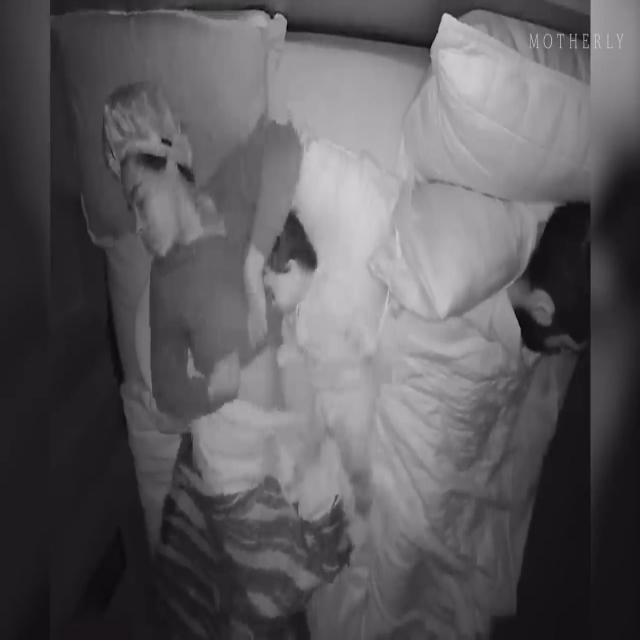baby: (262, 207, 377, 499)
